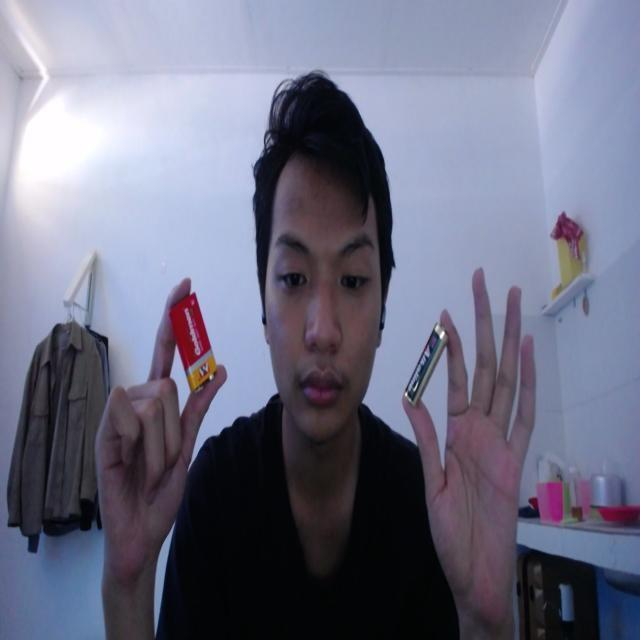9V: (166, 278, 226, 400)
AA: (403, 290, 453, 429)
